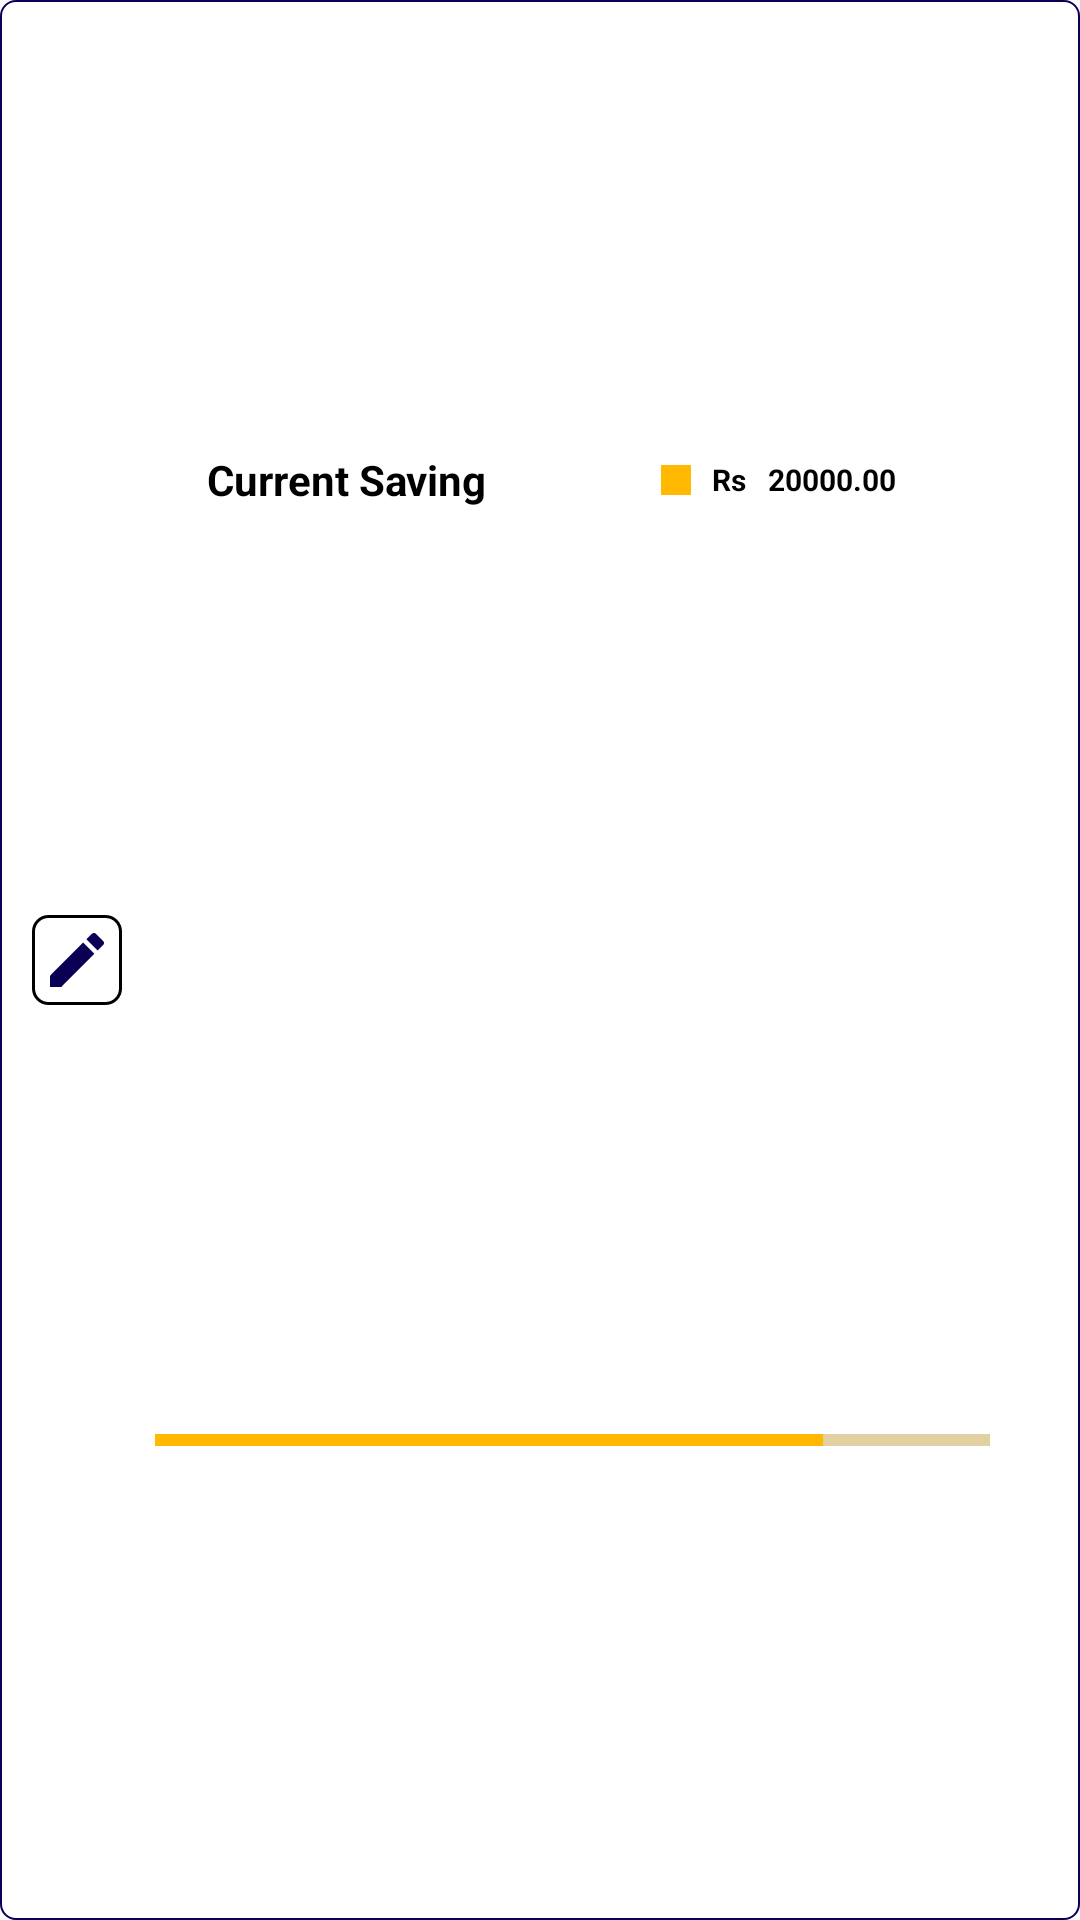

Screen size 1080*1920. Icon name, then its box in pixels as detection(x1, y1, x2, y2):
edit: detection(32, 915, 122, 1005)
